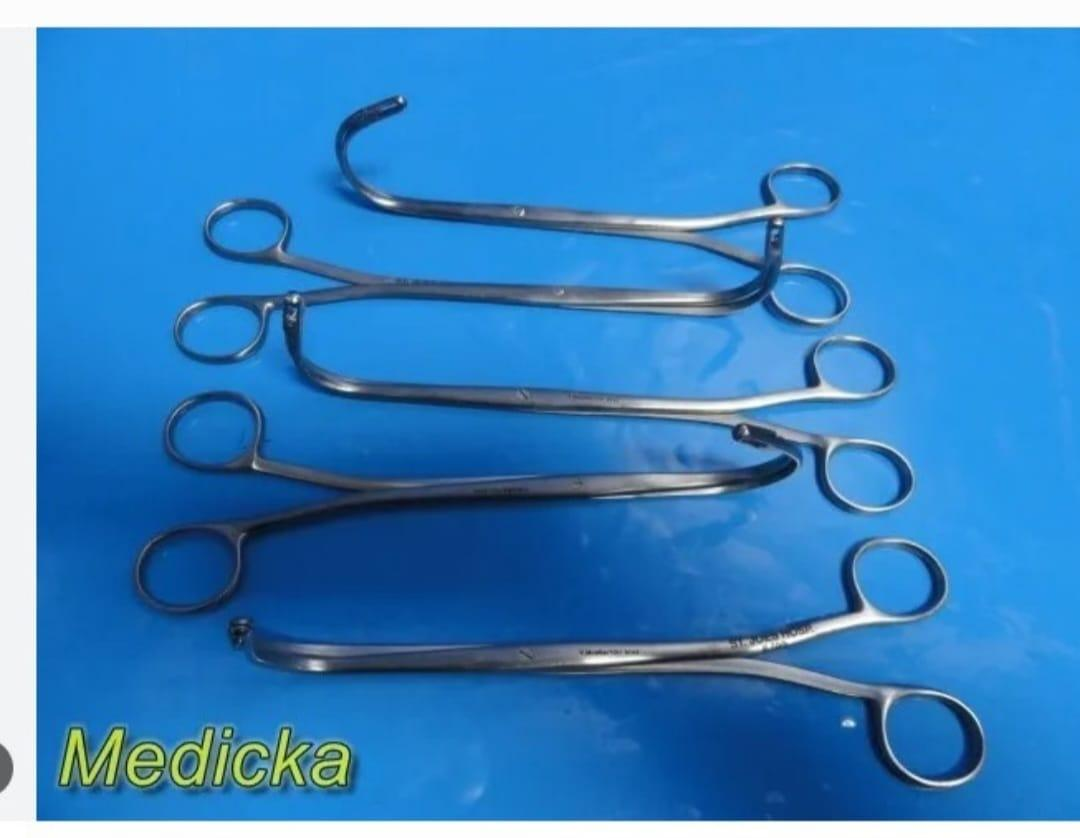Randall Forceps: (228, 530, 1002, 799), (116, 388, 805, 625), (270, 290, 920, 539), (316, 80, 858, 330), (171, 182, 788, 380)
